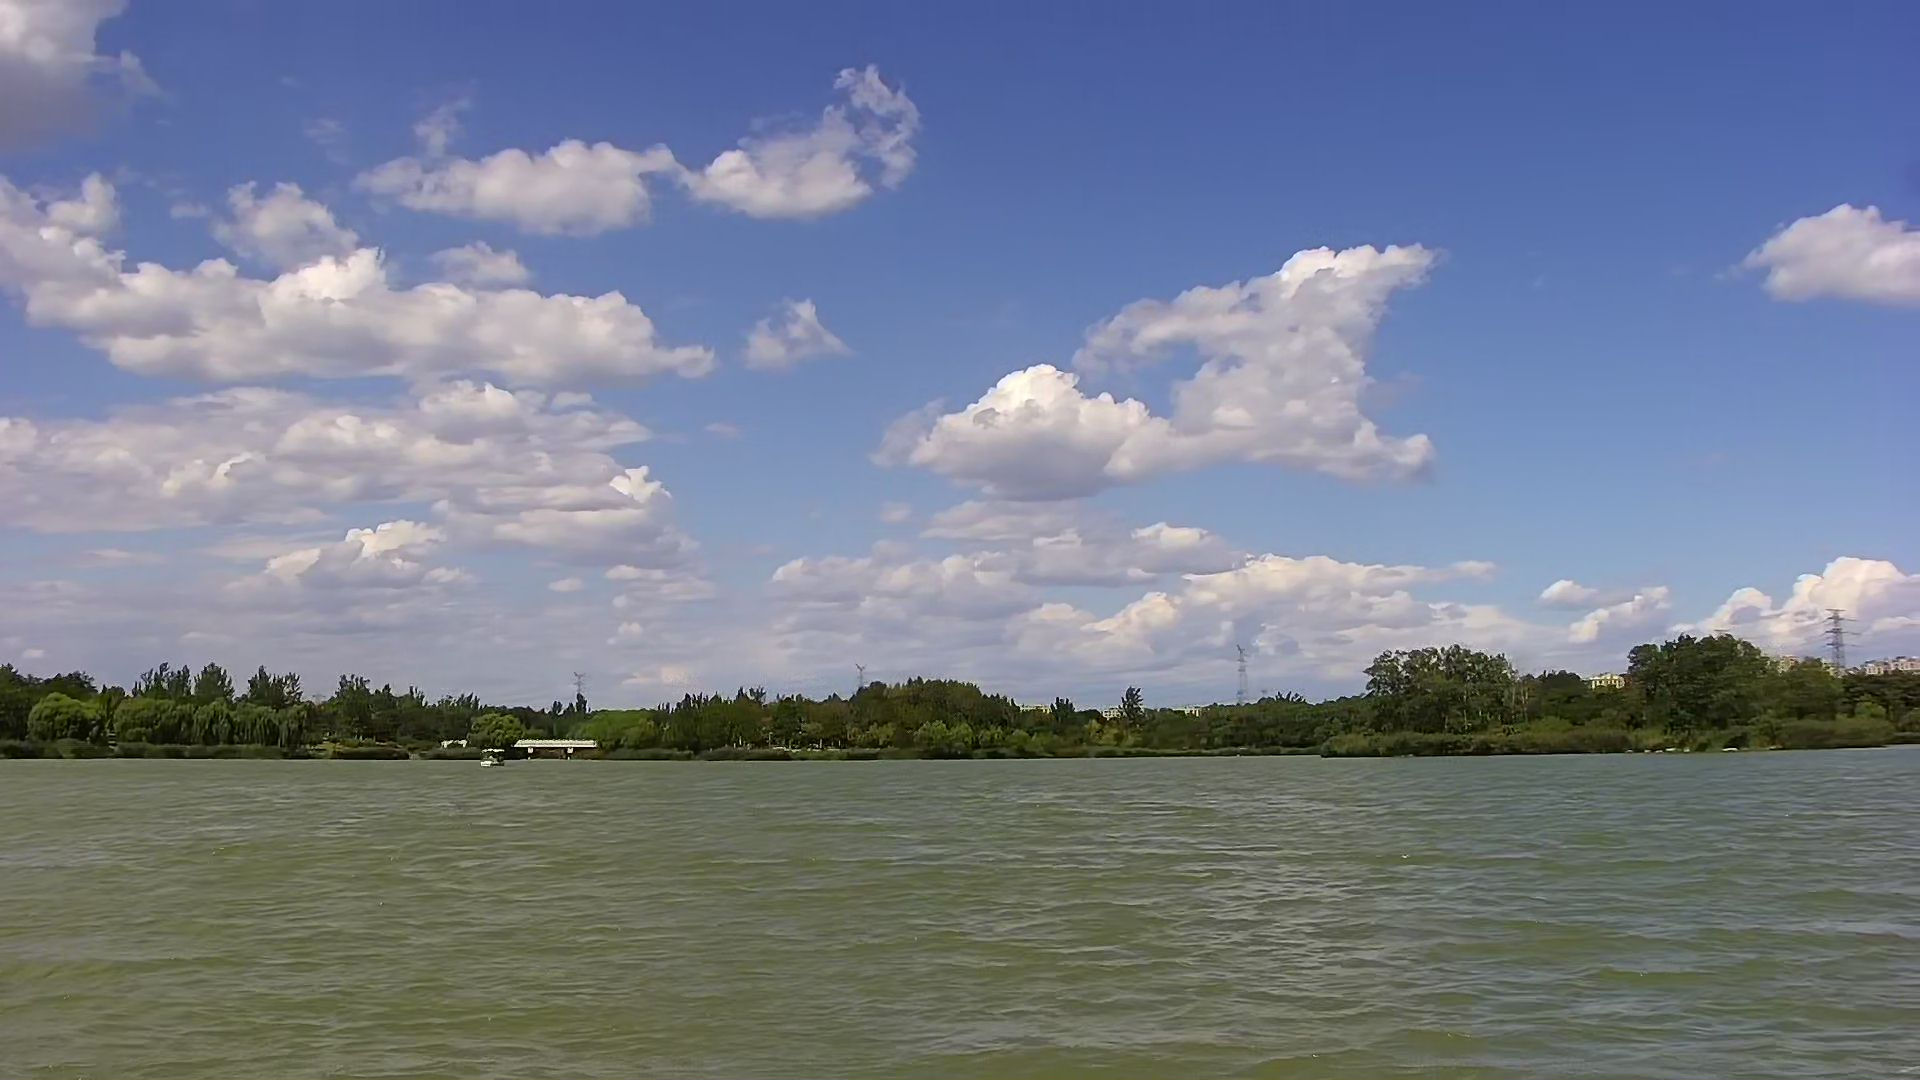boat: (475, 746, 509, 771)
bridge: (517, 735, 597, 760)
